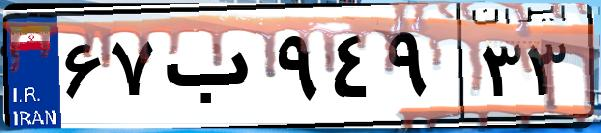3: (475, 38, 525, 113), (525, 38, 570, 115)
4: (330, 28, 385, 110)
6: (57, 26, 110, 100)
7: (110, 28, 158, 98)
9: (270, 28, 330, 110), (385, 28, 445, 110)
ب: (158, 20, 270, 120)
